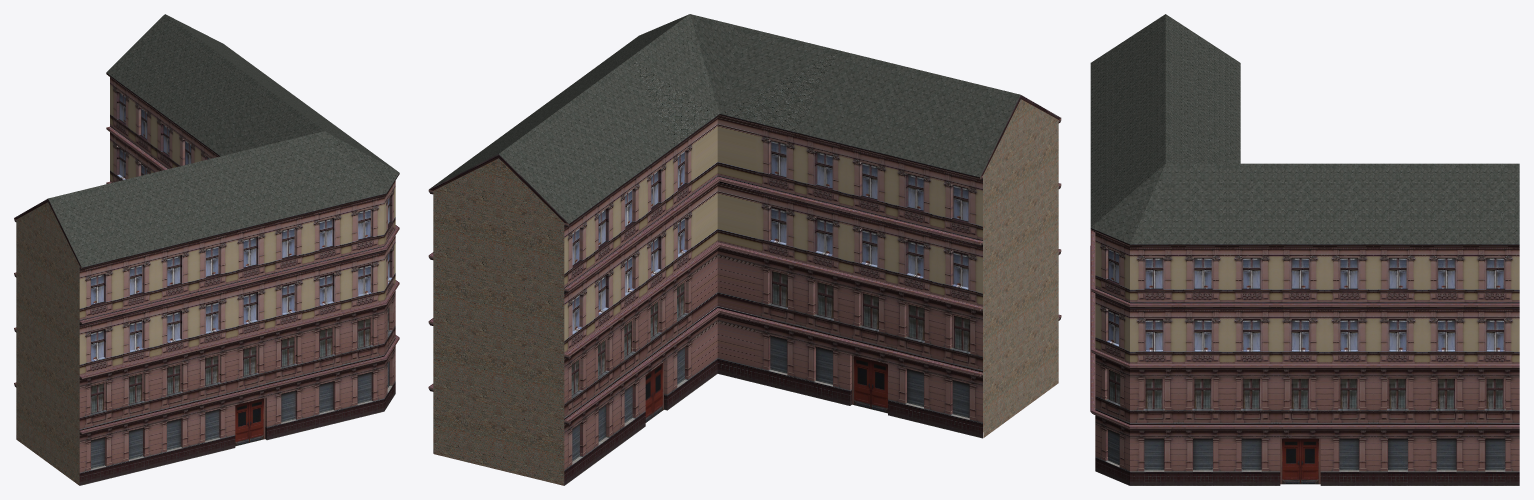
The model's file is PBP1_Corner3_2sided.fbx.
3 views of the same model, side by side, from view 1: azimuth 30°, elevation 25°; view 2: azimuth 150°, elevation 25°; view 3: azimuth 270°, elevation 25° (orthographic). The views are drawn at different scales.
Visible parts, largest first — view 1: PBP1_Corner3_2sided; view 2: PBP1_Corner3_2sided; view 3: PBP1_Corner3_2sided.
Part boxes in pixels (box(x1,y1,x2,y2)): PBP1_Corner3_2sided: box(14, 14, 399, 485); PBP1_Corner3_2sided: box(428, 14, 1061, 485); PBP1_Corner3_2sided: box(1090, 14, 1519, 485).
Size of the model in its own units: 2139 by 2138 by 1609.
